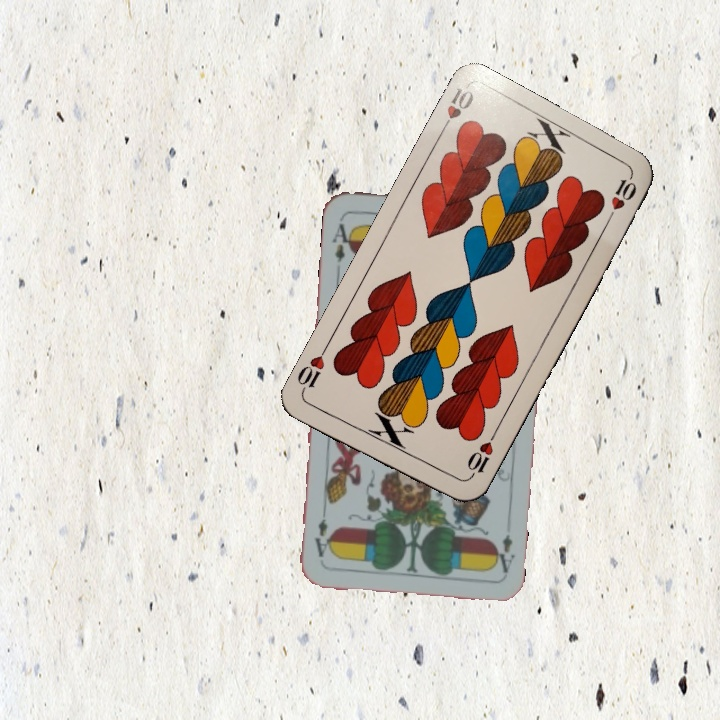EA: (328, 214, 356, 265), (490, 530, 517, 576)
H10: (435, 84, 477, 138), (463, 429, 498, 483)
